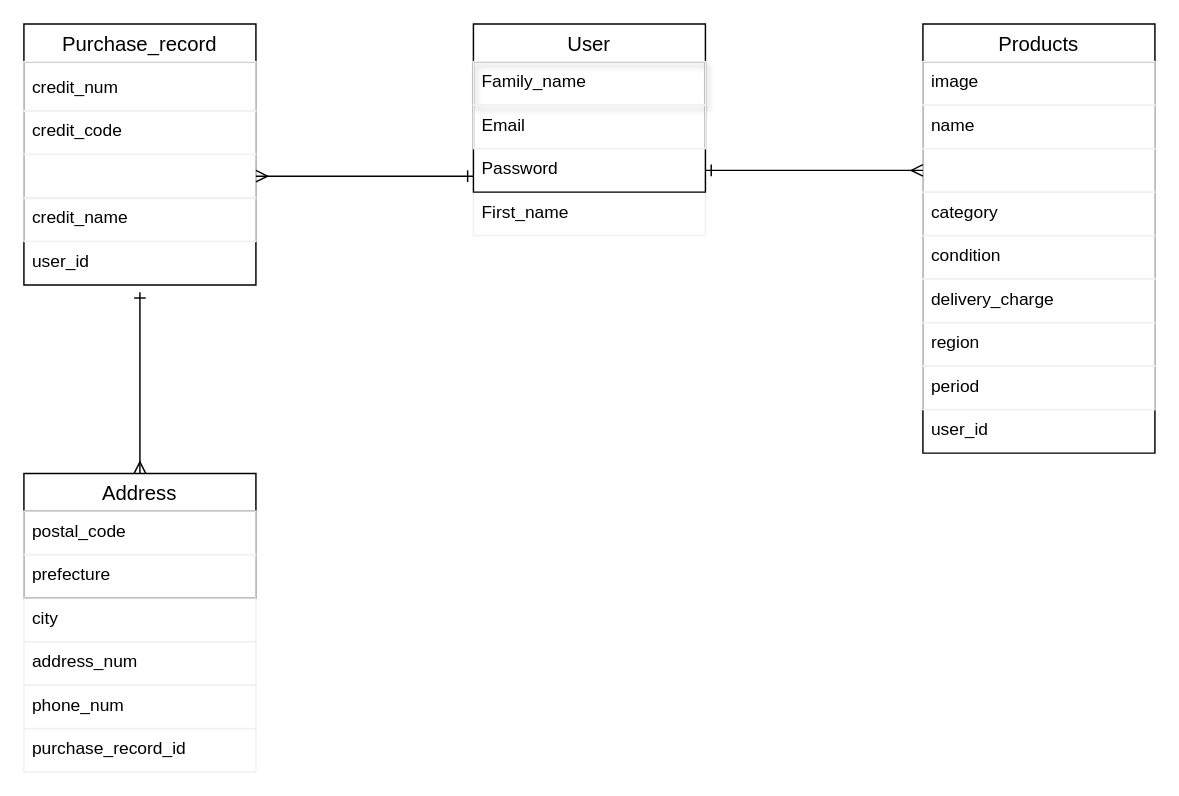
The diagram is 1179 pixels wide and 796 high, and some of its shapes have lost their labels. Each missing label, with the centre of its shape:
"details" belongs at point 1038,169.
"expiration_date" belongs at point 139,175.
